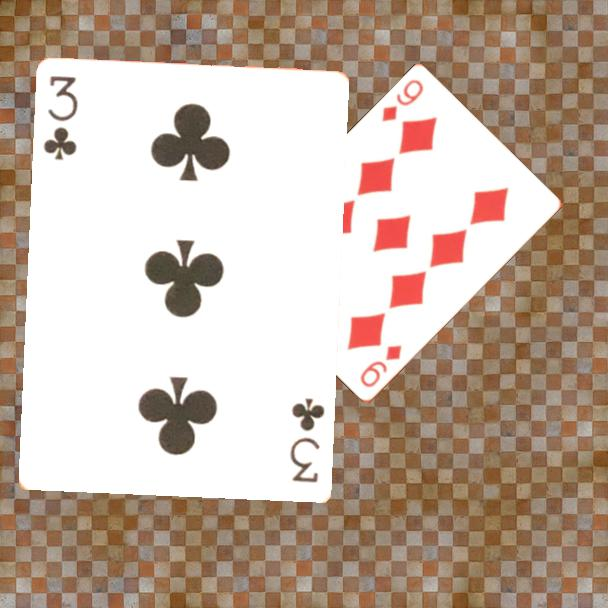c03: (286, 394, 328, 486), (40, 73, 82, 164)
d09: (378, 76, 427, 125), (356, 342, 404, 391)
